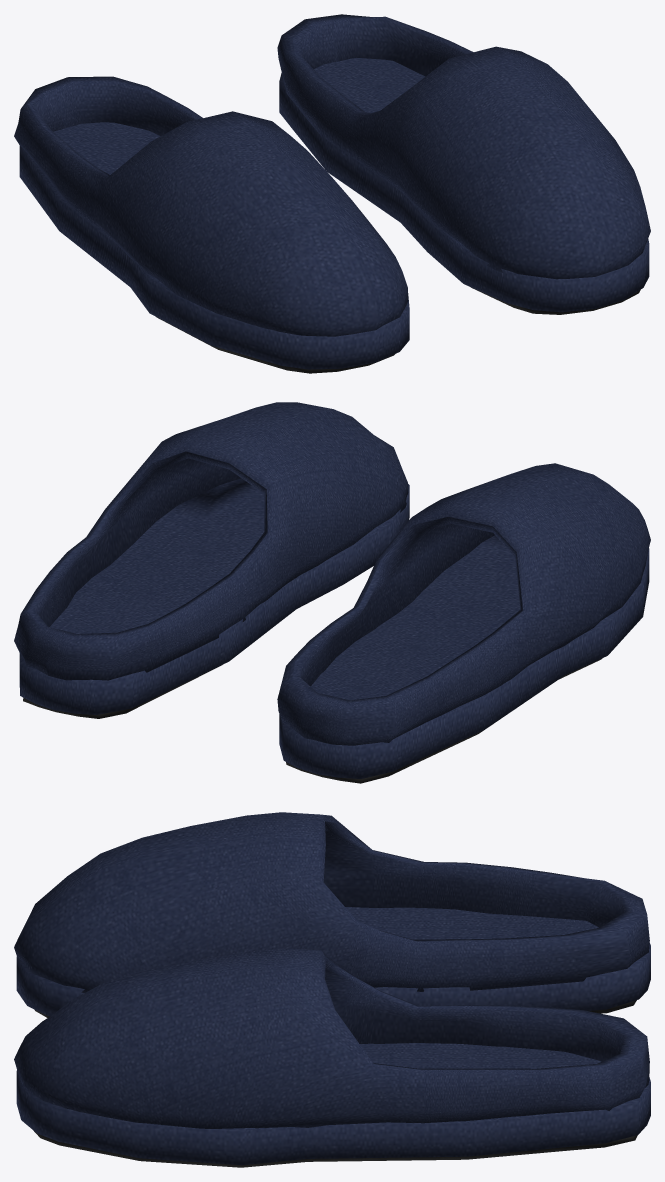
Rendered from Slippers.fbx.
The picture shows the model from 3 angles, top to bottom: view 1: azimuth 30°, elevation 25°; view 2: azimuth 150°, elevation 25°; view 3: azimuth 270°, elevation 25°; orthographic projection. The views are drawn at different scales.
Parts seen in each view (by area): view 1: Slippers; view 2: Slippers; view 3: Slippers.
Part boxes in pixels (<box>): Slippers: <box>14,14,650,373</box>; Slippers: <box>14,402,650,783</box>; Slippers: <box>14,812,650,1167</box>.
Size of the model in its own units: 222 by 71.44 by 253.
Materials: 1 (1 with a texture image).
